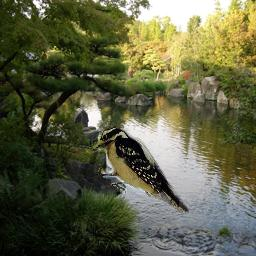Woodpecker: (91, 123, 189, 214)
